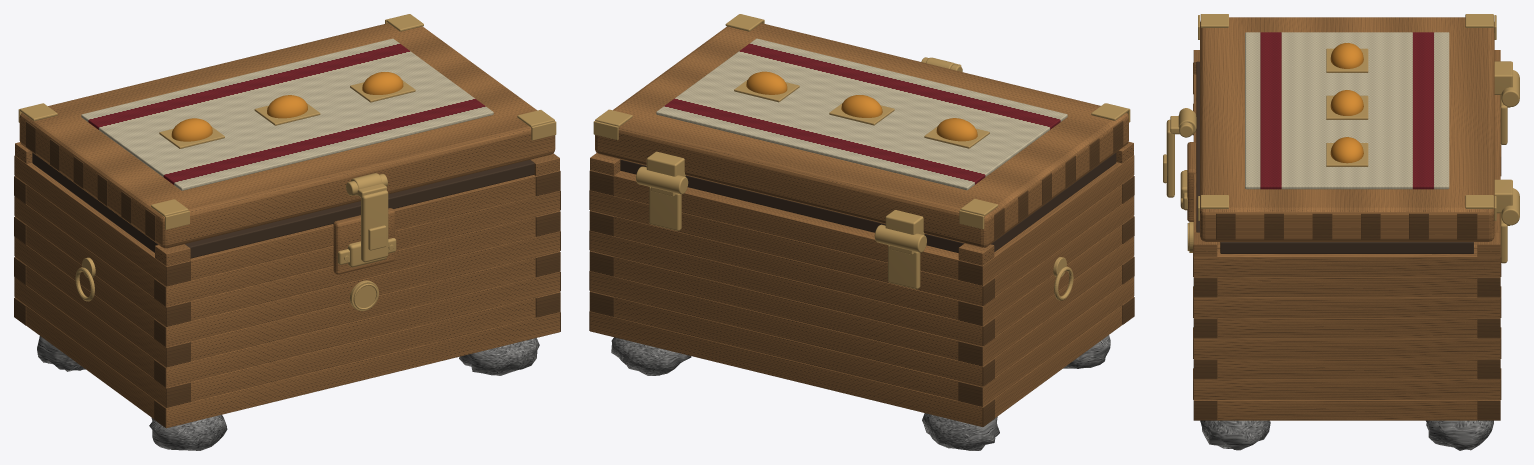
File: latvia.glb
The picture shows the model from 3 angles, left to right: view 1: azimuth 30°, elevation 25°; view 2: azimuth 150°, elevation 25°; view 3: azimuth 270°, elevation 25°; orthographic projection.
Parts seen in each view (by area): view 1: Lid / polished slab, Linen / raised woven panel, Wood / front course 0, Wood / front course 2, Wood / front course 4, Wood / front course 1, Wood / front course 3, Wood / front course 6, Wood / front course 5, Wood / front course 7, Mineral seam / long, Wood / side course 7 (+18 smaller); view 2: Lid / polished slab, Linen / raised woven panel, Wood / rear course 2, Wood / rear course 4, Wood / rear course 0, Wood / rear course 7, Wood / rear course 5, Wood / rear course 1, Wood / rear course 3, Wood / rear course 6, Wood / side course 7, Wood / side course 1 (+22 smaller); view 3: Lid / polished slab, Linen / raised woven panel, Wood / side course 7.001, Wood / side course 5.001, Wood / side course 3.001, Wood / side course 1.001, Wood / side course 6.001, Wood / side course 0.001, Wood / side course 2.001, Wood / side course 4.001, Mineral seam / side.001, Granite foot.002 (+36 smaller).
Part boxes in pixels (box(x1,y1,x2,y2)): Lid / polished slab: box(19, 23, 555, 248); Linen / raised woven panel: box(81, 38, 493, 190); Wood / front course 0: box(155, 312, 559, 428); Wood / front course 2: box(155, 271, 559, 387); Wood / front course 4: box(155, 231, 559, 347); Wood / front course 1: box(190, 298, 535, 401); Wood / front course 3: box(190, 257, 535, 361); Wood / front course 6: box(155, 191, 559, 306); Wood / front course 5: box(190, 217, 535, 320); Wood / front course 7: box(190, 175, 535, 280); Mineral seam / long: box(185, 159, 534, 258); Wood / side course 7: box(14, 156, 190, 286); Lid / polished slab: box(595, 23, 1128, 247); Linen / raised woven panel: box(656, 38, 1067, 190); Wood / rear course 2: box(590, 271, 994, 386); Wood / rear course 4: box(590, 230, 994, 346); Wood / rear course 0: box(590, 311, 993, 426); Wood / rear course 7: box(614, 171, 958, 279); Wood / rear course 5: box(614, 216, 958, 320); Wood / rear course 1: box(614, 297, 958, 400); Wood / rear course 3: box(614, 256, 958, 360); Wood / rear course 6: box(590, 190, 993, 305); Wood / side course 7: box(959, 155, 1133, 285); Wood / side course 1: box(959, 277, 1133, 406); Lid / polished slab: box(1200, 17, 1494, 241); Linen / raised woven panel: box(1245, 32, 1449, 189); Wood / side course 7.001: box(1194, 249, 1500, 277); Wood / side course 5.001: box(1194, 297, 1500, 318); Wood / side course 3.001: box(1194, 338, 1500, 359); Wood / side course 1.001: box(1194, 379, 1500, 399); Wood / side course 6.001: box(1217, 277, 1477, 297); Wood / side course 0.001: box(1217, 400, 1477, 420); Wood / side course 2.001: box(1217, 359, 1477, 379); Wood / side course 4.001: box(1217, 318, 1477, 338); Mineral seam / side.001: box(1220, 242, 1473, 253); Granite foot.002: box(1200, 420, 1270, 450).
Bounding box in the file's own units: 3.79 × 2.46 × 2.88.
Materials: 7 (4 with a texture image).
